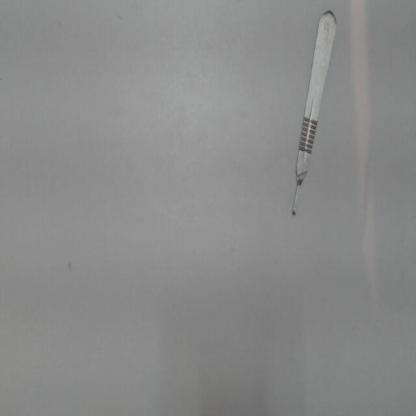No.3 BP Handle: (284, 8, 346, 227)
